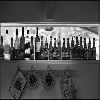beer: (32, 25, 42, 58)
